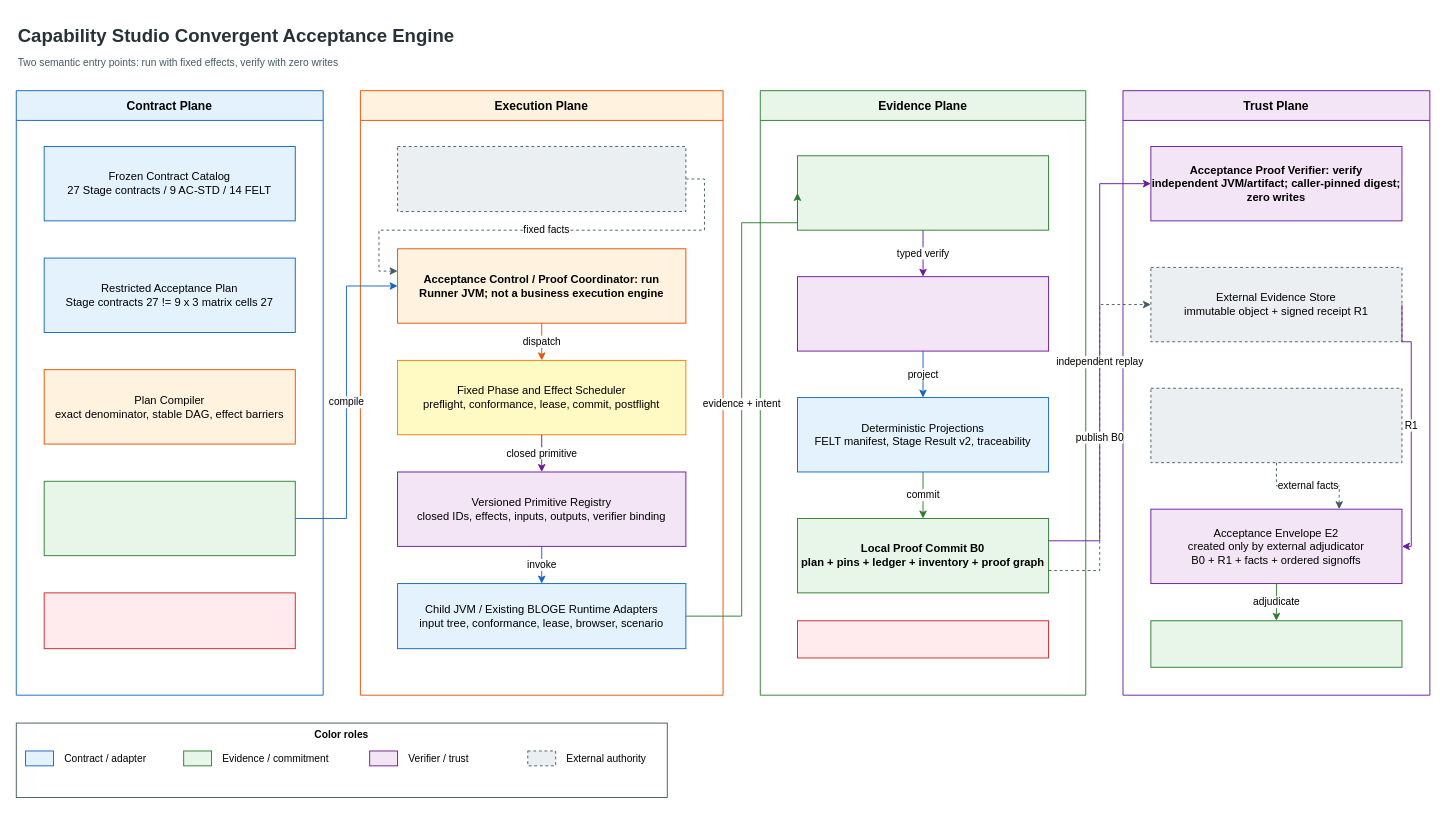
The diagram is 1446 pixels wide and 814 high, and some of its shapes have lost their labels. Here are the shapes that lost their labels. From the top down, the centre of each, then its label:
At pixel 541 179: "Deployment Bootstrap Facts candidate and environment snapshots".
At pixel 923 192: "Append-only Evidence Ledger intent, evidence, proof, failure, recovery".
At pixel 923 313: "Typed Proof Graph claim admitted only after registered verifier passes".
At pixel 1276 425: "Candidate / Environment / Owner Authorities external facts and signoffs".
At pixel 169 518: "Compiled Plan plan / catalog / compiler fingerprints".
At pixel 169 620: "No script, expression, Java class, dynamic action, or caller-authored PASS".
At pixel 923 639: "Manifest is a projection, never an authority for PASS".
At pixel 1276 643: "Stage Decision ACCEPTED only by external adjudication".
